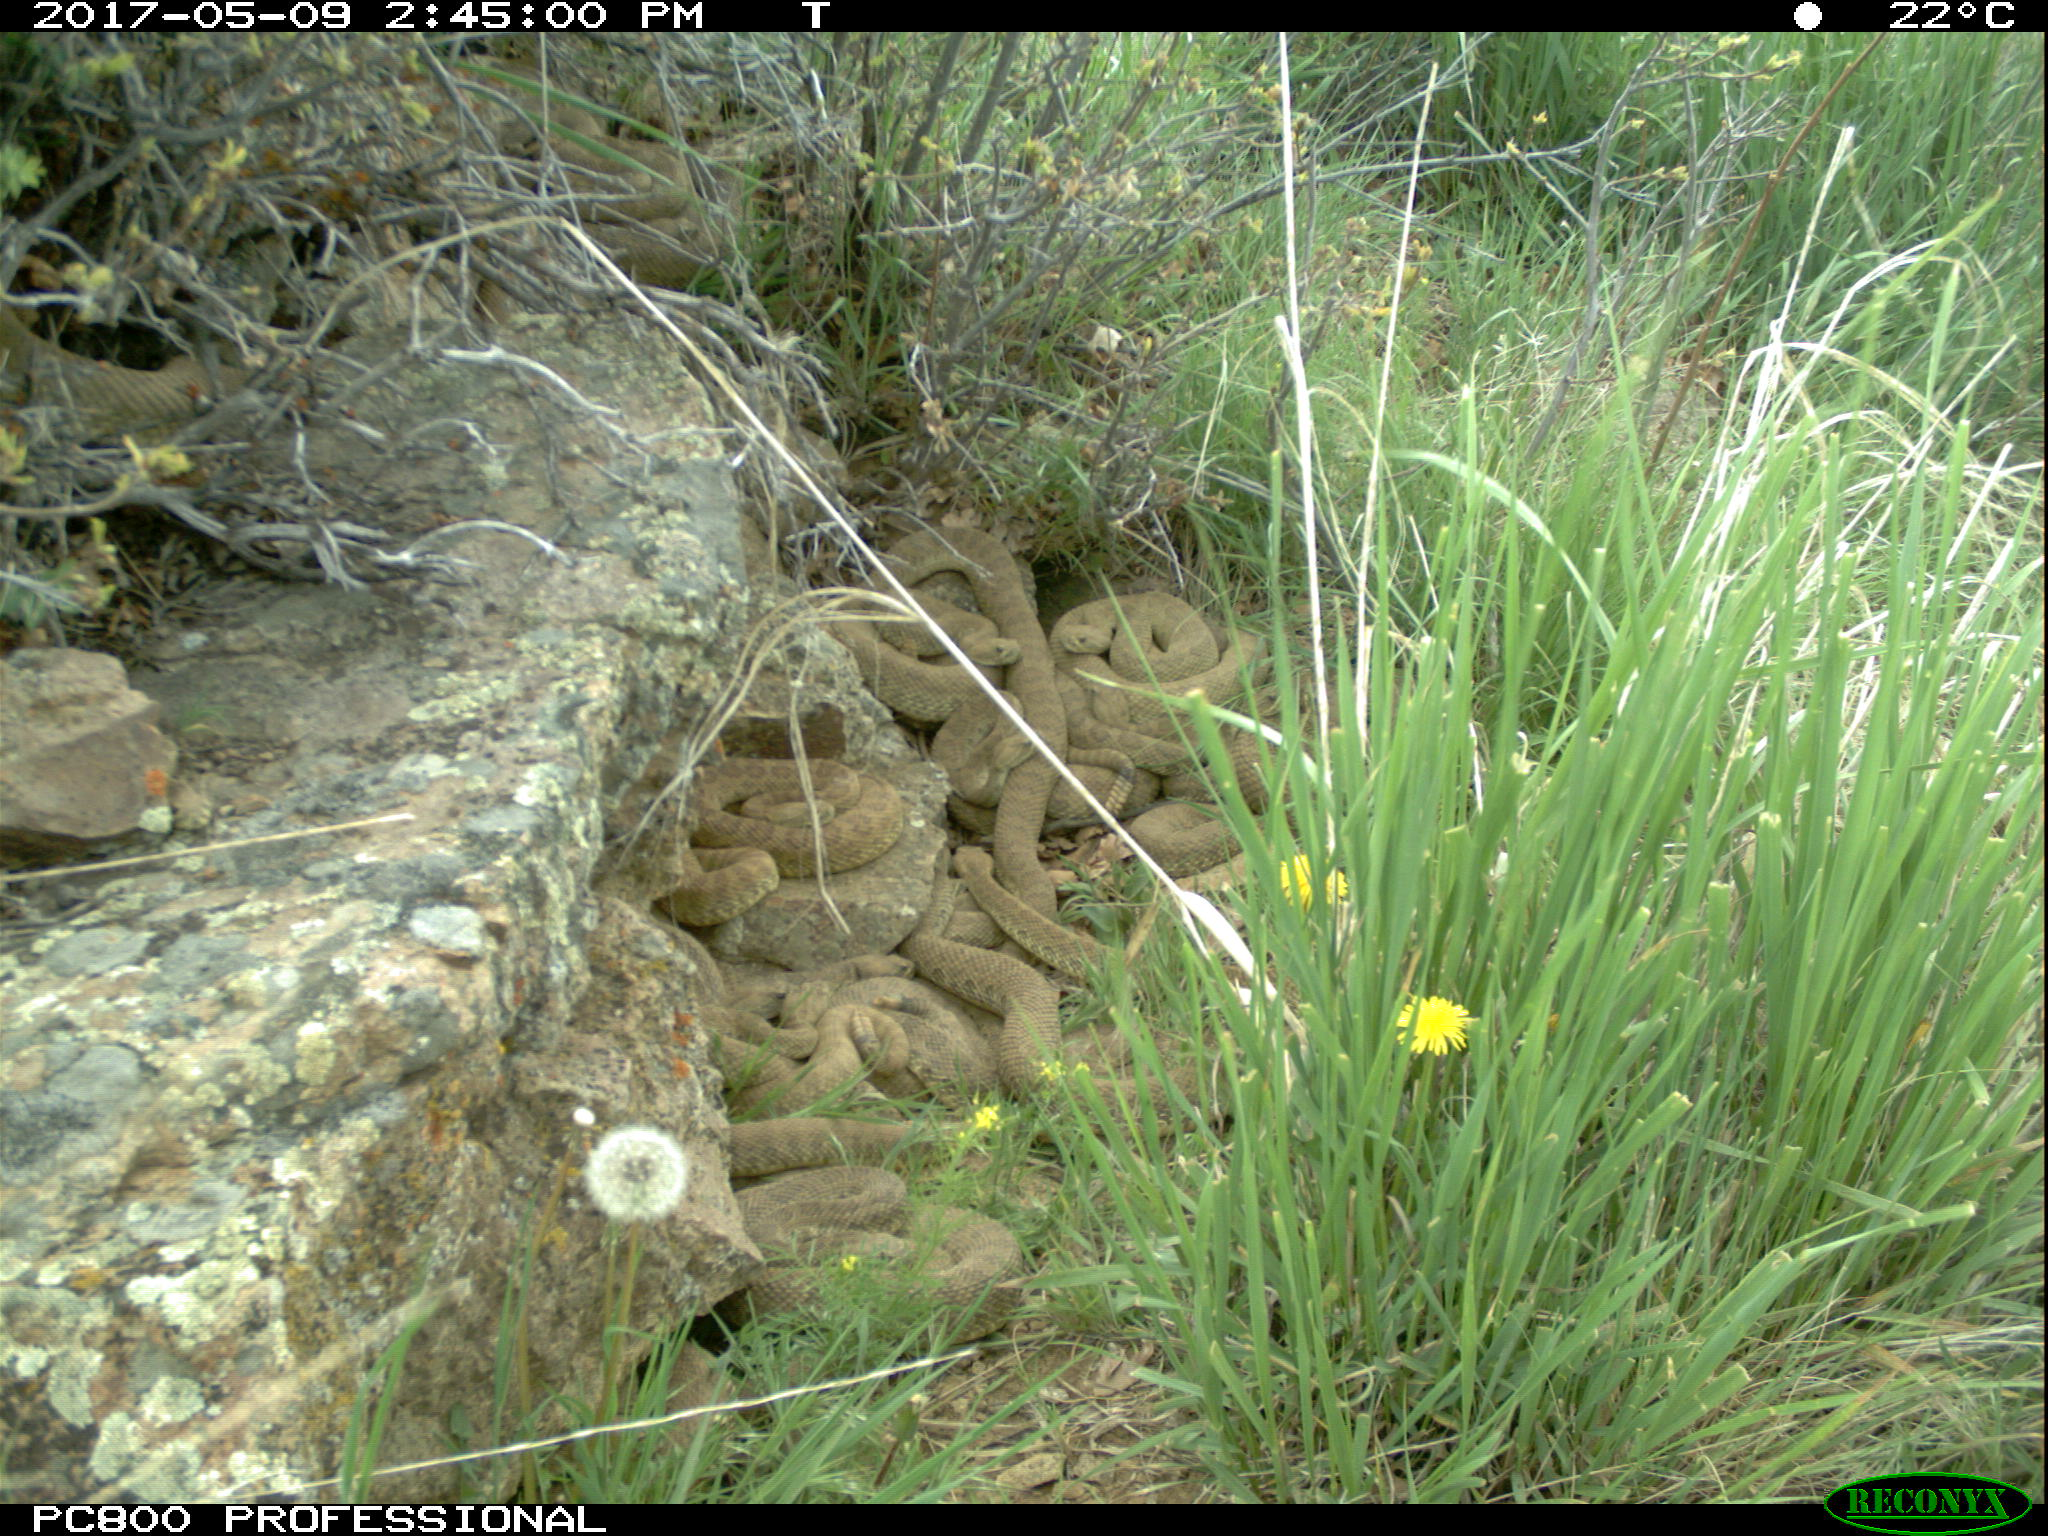snake: (732, 1165, 1027, 1350), (737, 952, 985, 1152), (677, 752, 905, 934), (926, 694, 1145, 883), (856, 515, 1055, 710), (1056, 591, 1272, 752), (998, 1000, 1216, 1142), (5, 307, 237, 432), (1130, 753, 1292, 899), (956, 854, 1118, 987), (505, 115, 705, 218)
